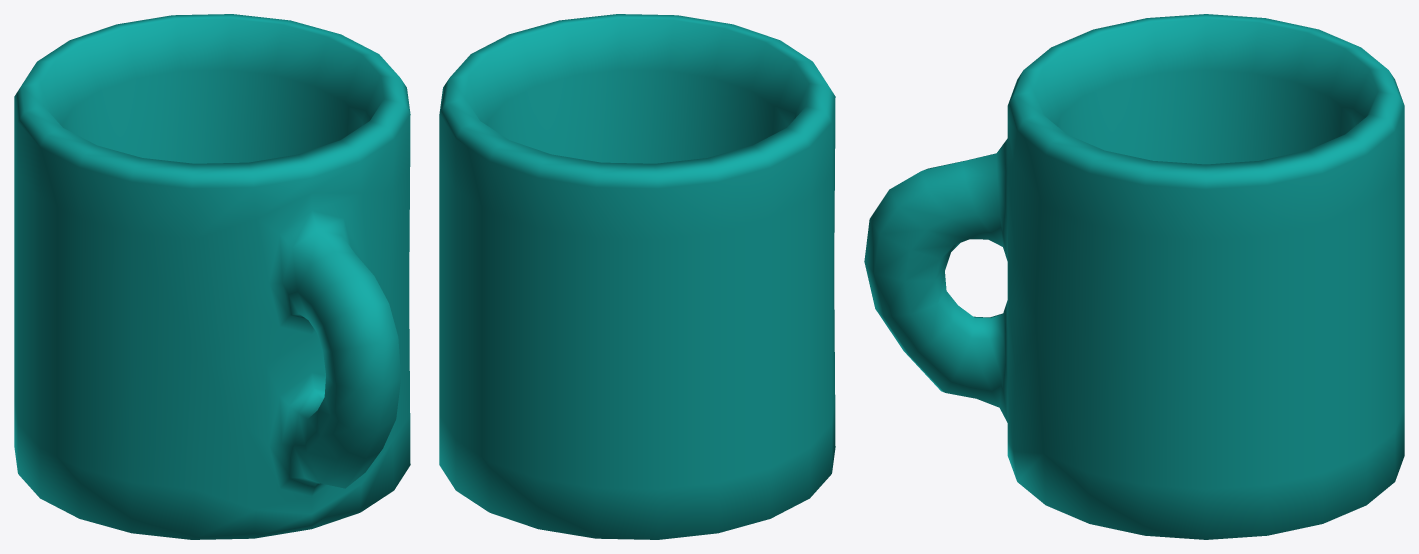
File: 0709mug.obj
The picture shows the model from 3 angles, left to right: view 1: azimuth 30°, elevation 25°; view 2: azimuth 150°, elevation 25°; view 3: azimuth 270°, elevation 25°; orthographic projection.
Visible parts, largest first — view 1: mug; view 2: mug; view 3: mug.
Boxes of the visible parts, left/top/right/bottom form: mug: left=14, top=14, right=410, bottom=539; mug: left=439, top=14, right=835, bottom=539; mug: left=864, top=14, right=1404, bottom=539.
Size of the model in its own units: 3.81 by 4 by 5.18.
